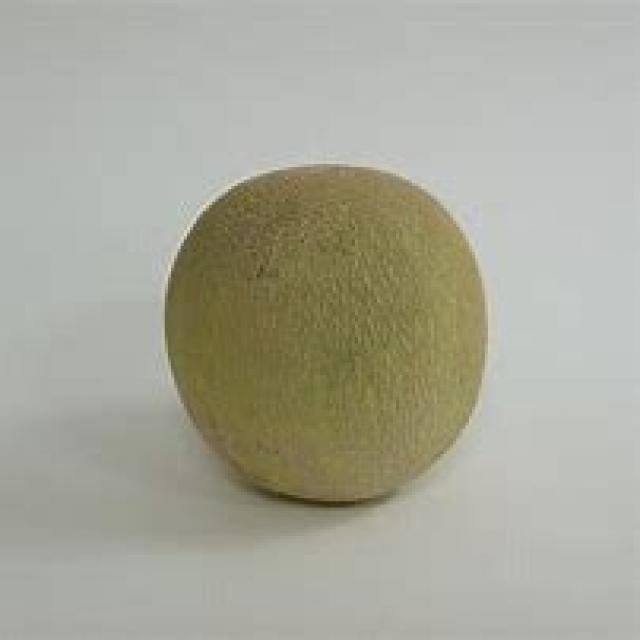Hami Melon: (167, 166, 488, 505)
